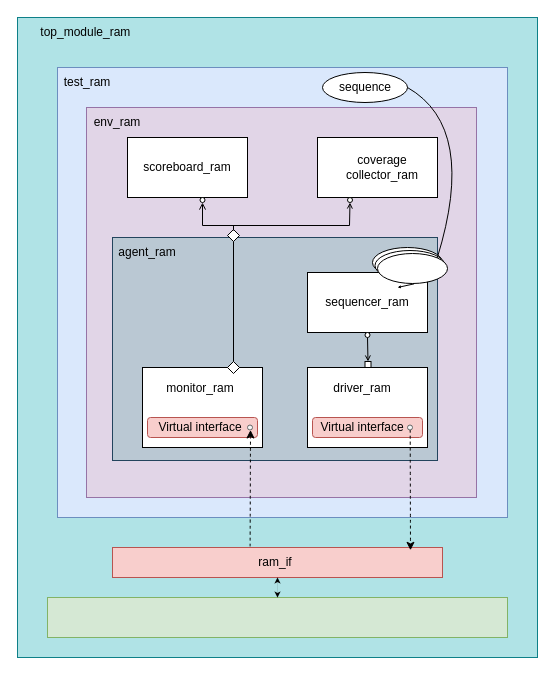
Some shapes in this 555 by 675 pixel diagram are drawn without their labels. Each missing label, with the centre of its shape:
DUT_ram: point 277,617
seq_item: point 412,268
